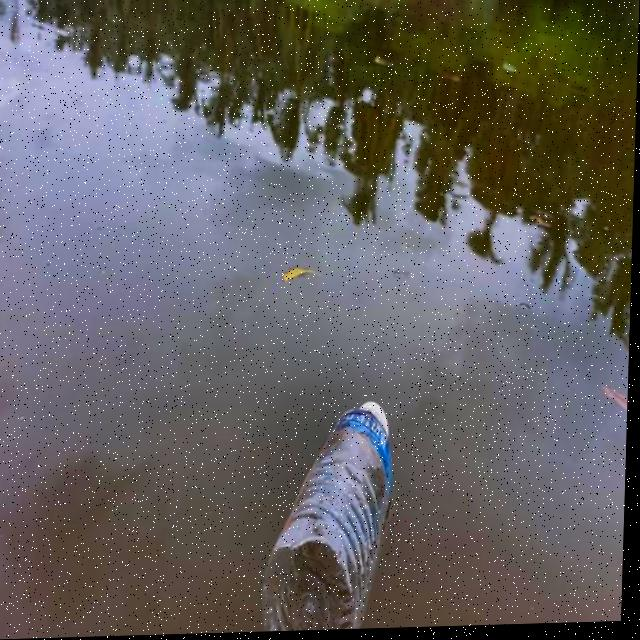waterbottle: (246, 382, 420, 634)
